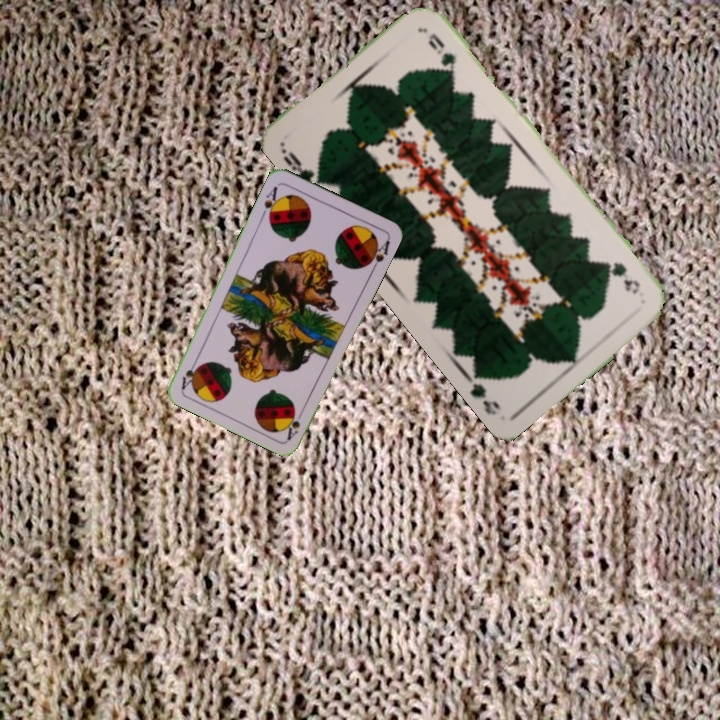G9: (277, 144, 329, 187), (602, 257, 643, 297)
SA: (257, 182, 283, 222), (283, 404, 307, 442)
